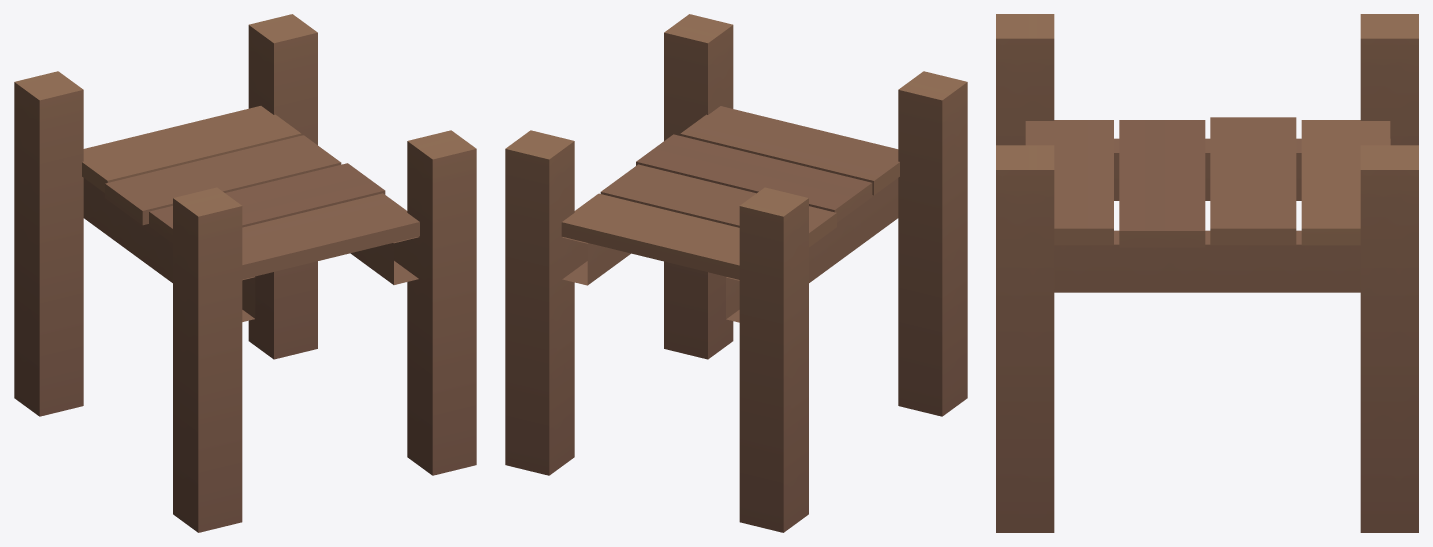
The model's file is TD_bridge1.fbx.
The picture shows the model from 3 angles, left to right: view 1: azimuth 30°, elevation 25°; view 2: azimuth 150°, elevation 25°; view 3: azimuth 270°, elevation 25°; orthographic projection. The views are drawn at different scales.
Visible parts, largest first — view 1: bridge1; view 2: bridge1; view 3: bridge1.
Boxes of the visible parts, x1,y1,x2,y2 form: bridge1: (14, 14, 476, 532); bridge1: (505, 14, 967, 532); bridge1: (996, 14, 1418, 532).
Bounding box in the file's own units: 202 × 220 × 232.
